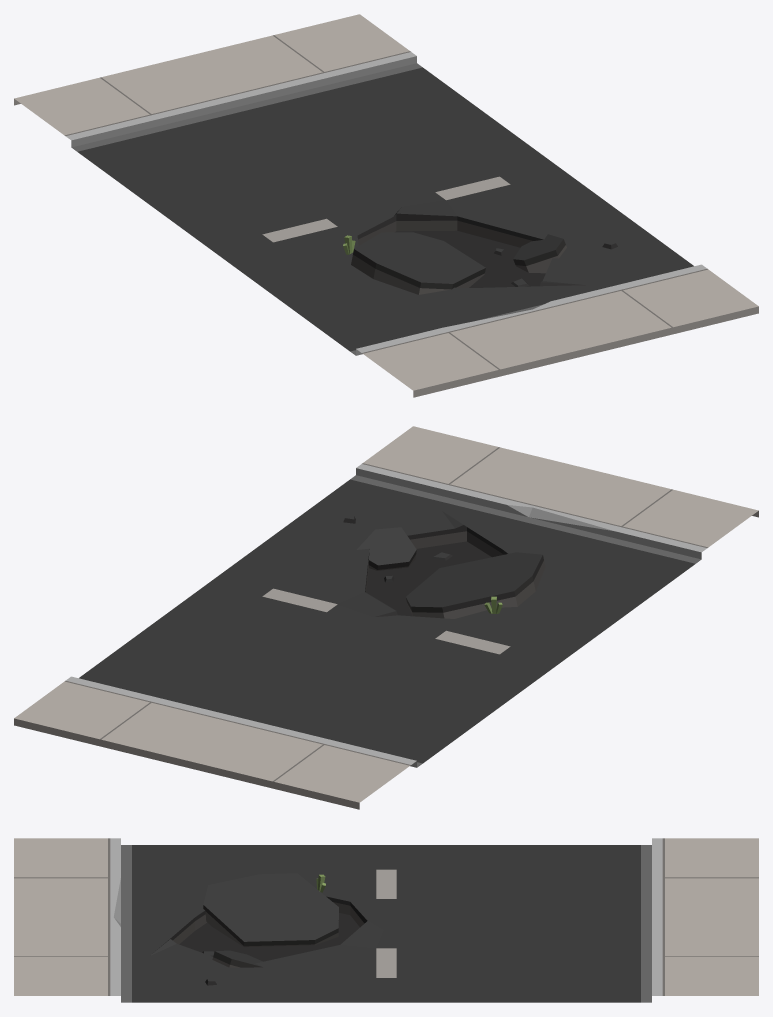
The model's file is SA_Env_RoadStraight_Damaged_05.gltf.
3 views of the same model, one above another, from view 1: azimuth 30°, elevation 25°; view 2: azimuth 150°, elevation 25°; view 3: azimuth 270°, elevation 25° (orthographic). The views are drawn at different scales.
Visible parts, largest first — view 1: SA_Env_RoadStraight_Damaged_05; view 2: SA_Env_RoadStraight_Damaged_05; view 3: SA_Env_RoadStraight_Damaged_05.
Part boxes in pixels (box(x1,y1,x2,y2)): SA_Env_RoadStraight_Damaged_05: box(14, 14, 758, 397); SA_Env_RoadStraight_Damaged_05: box(14, 426, 758, 809); SA_Env_RoadStraight_Damaged_05: box(14, 838, 758, 1002).
Size of the model in its own units: 10 by 1.15 by 20.
1 material, 1 textured.
